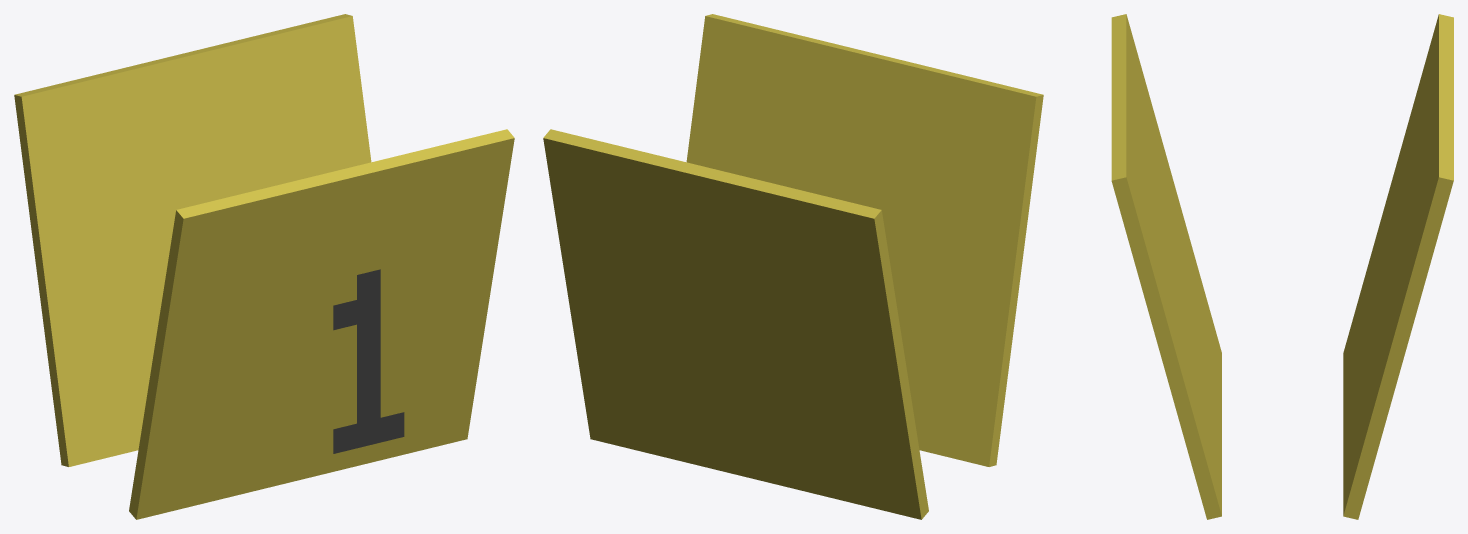
File: evidence_marker_a.glb
The picture shows the model from 3 angles, left to right: view 1: azimuth 30°, elevation 25°; view 2: azimuth 150°, elevation 25°; view 3: azimuth 270°, elevation 25°; orthographic projection.
Visible parts, largest first — view 1: body; view 2: body; view 3: body.
Boxes of the visible parts, x1,y1,x2,y2 form: body: [14, 14, 514, 519]; body: [543, 14, 1043, 519]; body: [1111, 14, 1453, 519].
Size of the model in its own units: 0.1 by 0.0979 by 0.0988.
